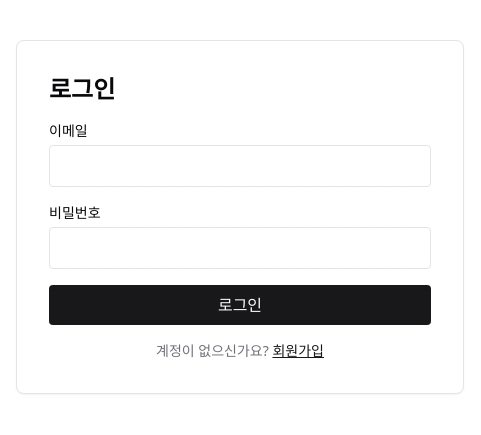
it: Login page › 유효하지 않은 이메일을 입력하면 Zod 검증 오류를 표시한다
Type "invalid" into the field labelled "이메일" at (240, 166), box [49,145,431,187]
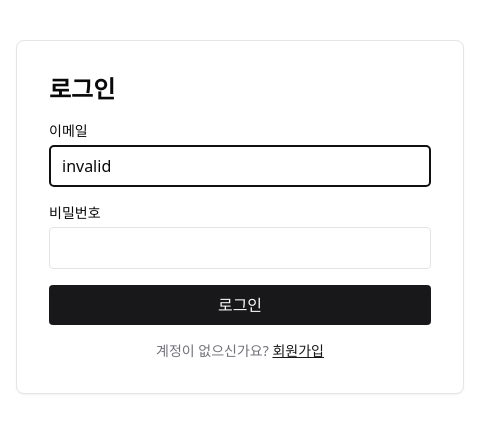
Click the button "로그인" at (240, 305), box [49,285,431,325]
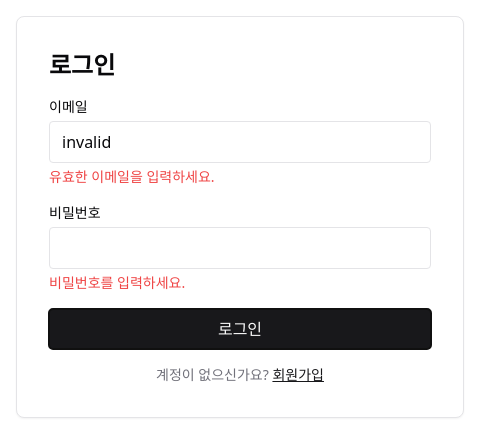
Result: the text "유효한 이메일을 입력하세요." is shown at [49,167,215,186]
